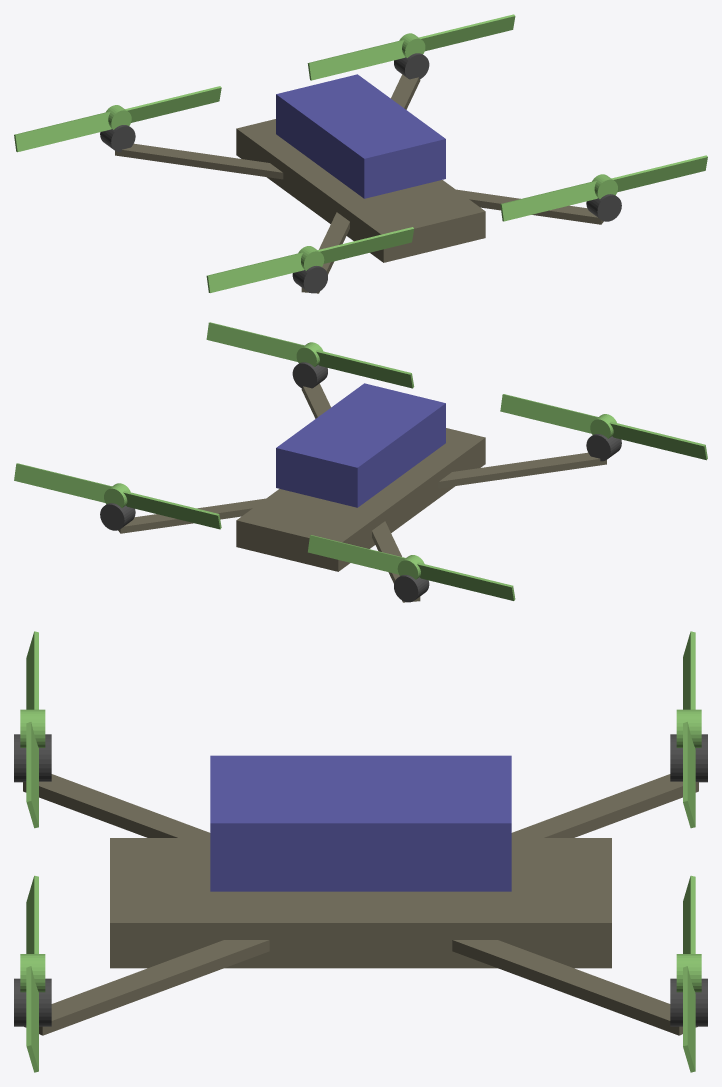
File: 7 Wonders 3D.glb
3 views of the same model, one above another, from view 1: azimuth 30°, elevation 25°; view 2: azimuth 150°, elevation 25°; view 3: azimuth 270°, elevation 25° (orthographic). The views are drawn at different scales.
Visible parts, largest first — view 1: battery, frame_body, prop_0, prop_1, prop_3, prop_2, arm_3, arm_0, arm_2, motor_2, motor_0, motor_3 (+2 smaller); view 2: battery, frame_body, prop_0, prop_2, prop_1, prop_3, arm_2, arm_1, motor_1, motor_3, motor_2, motor_0 (+2 smaller); view 3: frame_body, battery, arm_0, arm_1, arm_2, arm_3, prop_1, prop_3, prop_0, prop_2, motor_0, motor_1 (+2 smaller).
Boxes of the visible parts, box(x1,y1,x2,y2) form: battery: box(276, 74, 445, 198); frame_body: box(236, 119, 485, 262); prop_0: box(500, 155, 707, 221); prop_1: box(307, 14, 515, 80); prop_3: box(14, 86, 221, 152); prop_2: box(206, 227, 413, 292); arm_3: box(115, 143, 283, 179); arm_0: box(456, 189, 603, 224); arm_2: box(301, 212, 349, 293); motor_2: box(292, 266, 327, 293); motor_0: box(586, 194, 621, 221); motor_3: box(100, 125, 135, 152); battery: box(276, 383, 445, 507); frame_body: box(236, 428, 485, 571); prop_0: box(206, 322, 414, 388); prop_2: box(500, 394, 707, 460); prop_1: box(14, 463, 221, 529); prop_3: box(308, 535, 515, 600); arm_2: box(438, 452, 606, 488); arm_1: box(118, 498, 265, 533); motor_1: box(100, 503, 135, 530); motor_3: box(394, 575, 429, 602); motor_2: box(586, 434, 621, 461); motor_0: box(292, 362, 327, 388); frame_body: box(110, 838, 611, 968); battery: box(210, 755, 511, 891); arm_0: box(24, 940, 269, 1035); arm_1: box(452, 940, 697, 1035); arm_2: box(23, 774, 210, 837); arm_3: box(511, 774, 698, 837); prop_1: box(676, 875, 701, 1072); prop_3: box(676, 631, 701, 828); prop_0: box(20, 875, 45, 1072); prop_2: box(20, 631, 45, 828); motor_0: box(14, 978, 51, 1026); motor_1: box(670, 978, 707, 1026).
Size of the model in its own units: 0.3904 by 0.06 by 0.2766.
